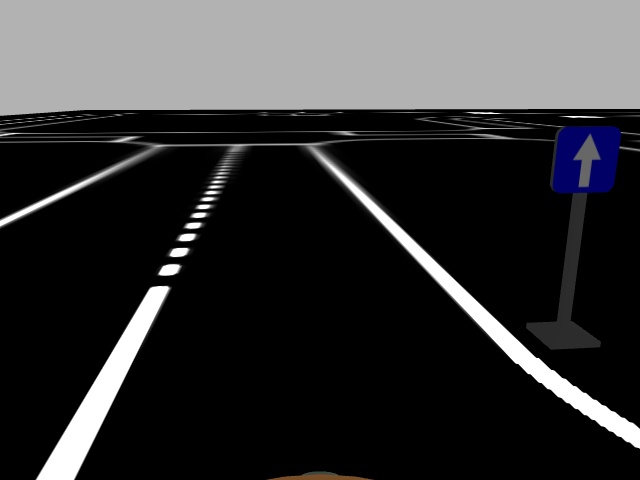oneway: (550, 126, 620, 198)
